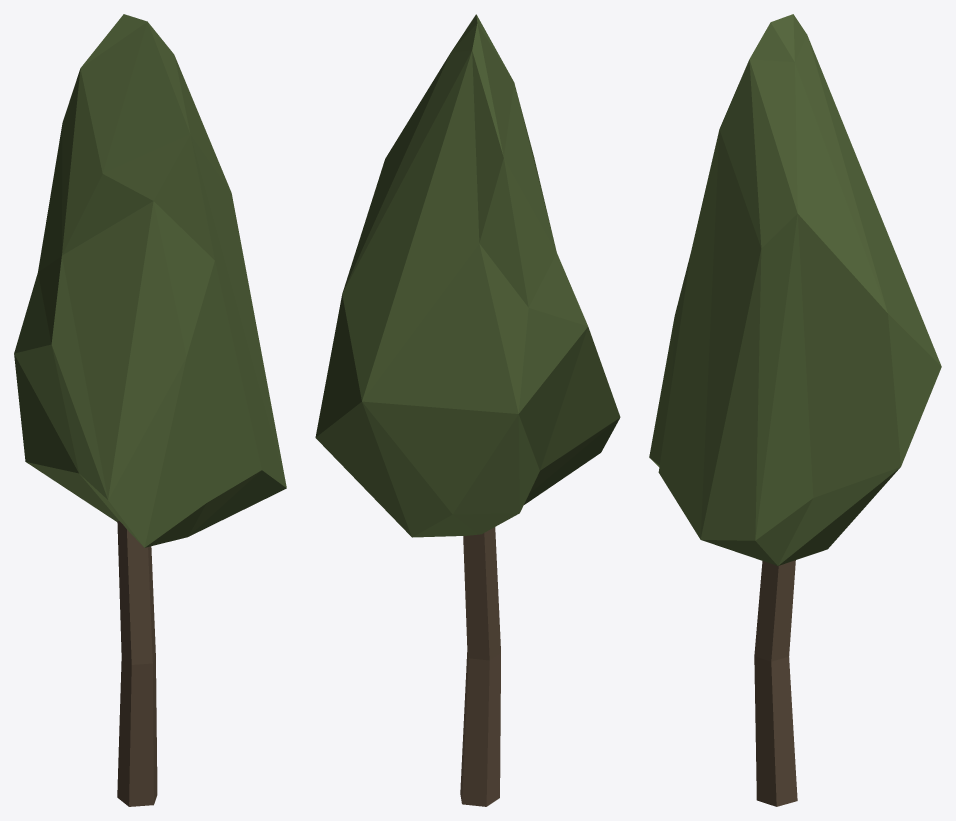
The model's file is tree_014.fbx.
The picture shows the model from 3 angles, left to right: view 1: azimuth 30°, elevation 25°; view 2: azimuth 150°, elevation 25°; view 3: azimuth 270°, elevation 25°; orthographic projection.
Parts seen in each view (by area): view 1: tree_014; view 2: tree_014; view 3: tree_014.
Boxes of the visible parts, x1,y1,x2,y2 form: tree_014: (14, 14, 286, 806); tree_014: (315, 14, 620, 806); tree_014: (649, 14, 941, 806).
Size of the model in its own units: 0.4537 by 1.5 by 0.5081.
Materials: 1 (1 with a texture image).
